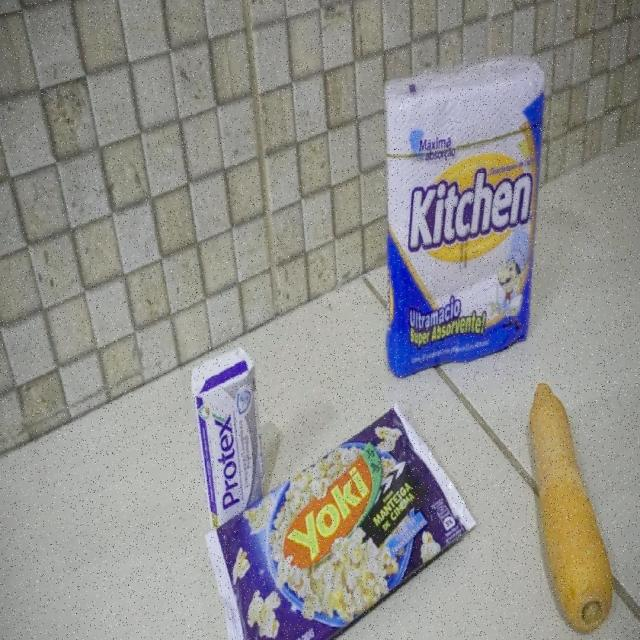Carrot: (530, 381, 614, 635)
Napkin: (382, 54, 548, 376)
Popcorn: (199, 403, 475, 640)
Soap: (190, 346, 268, 532)
